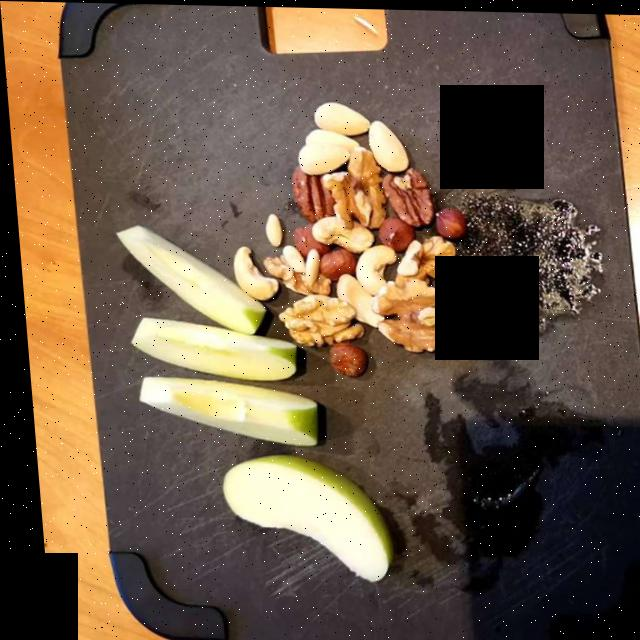apple: (117, 225, 391, 593)
mixed-nuts: (241, 104, 471, 399)
